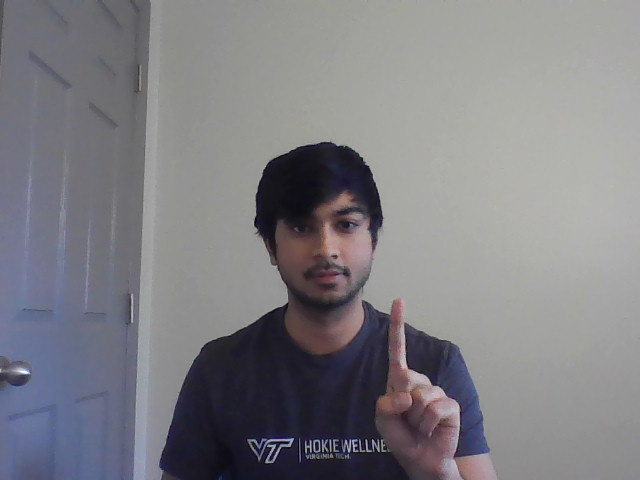one: (368, 295, 462, 458)
